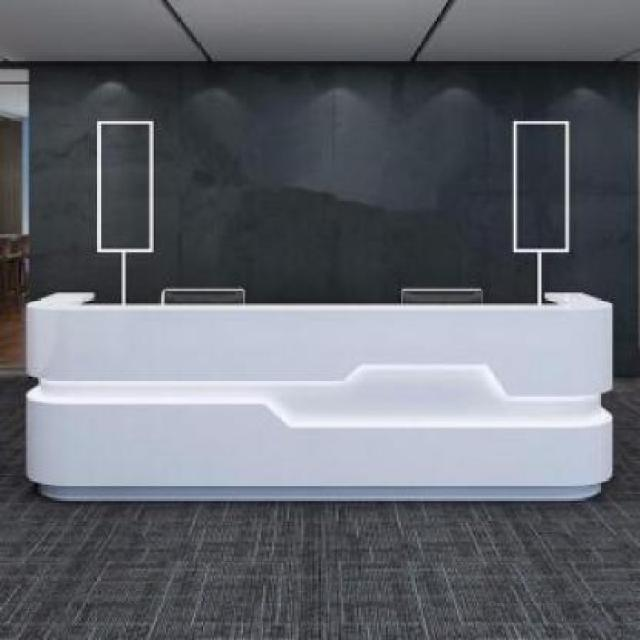frontdesk: (11, 283, 631, 509)
